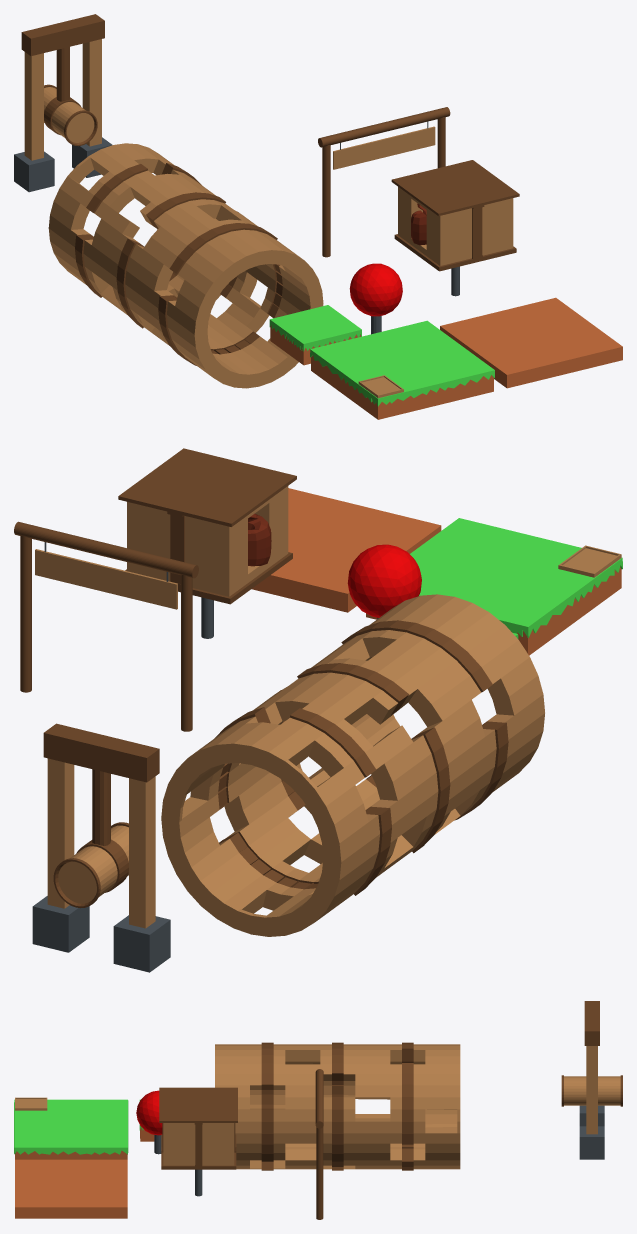
The model's file is Env.fbx.
3 renders of one model, top to bottom at view 1: azimuth 30°, elevation 25°; view 2: azimuth 150°, elevation 25°; view 3: azimuth 270°, elevation 25°, orthographic. The views are drawn at different scales.
Visible parts, largest first — view 1: Env_Spinner, ENV_GRASS, Env_Trap_02, ENV_DIRT, Env_Trap_01, Env_Finish_Line, ENV_GRASS_SMALL, Env_Trap_01_Hammer, Env_Bounce_Ball, Prop_Level_Selector, Prop_Boxing_Glove; view 2: Env_Spinner, Env_Trap_02, Env_Trap_01, ENV_GRASS, ENV_DIRT, Env_Finish_Line, Env_Trap_01_Hammer, Env_Bounce_Ball, Prop_Level_Selector, Prop_Boxing_Glove; view 3: Env_Spinner, ENV_DIRT, ENV_GRASS, Env_Trap_02, Env_Trap_01, Env_Trap_01_Hammer, Env_Finish_Line, Env_Bounce_Ball, Prop_Level_Selector.
Part boxes in pixels (<box>): Env_Spinner: <box>48,143,323,388</box>; ENV_GRASS: <box>310,320,494,419</box>; Env_Trap_02: <box>391,160,519,296</box>; ENV_DIRT: <box>440,297,622,388</box>; Env_Trap_01: <box>14,14,112,192</box>; Env_Finish_Line: <box>318,107,450,257</box>; ENV_GRASS_SMALL: <box>269,305,361,365</box>; Env_Trap_01_Hammer: <box>44,47,97,146</box>; Env_Bounce_Ball: <box>349,263,402,334</box>; Prop_Level_Selector: <box>358,375,403,398</box>; Prop_Boxing_Glove: <box>411,203,426,245</box>; Env_Spinner: <box>161,594,544,936</box>; Env_Trap_02: <box>118,448,296,638</box>; Env_Trap_01: <box>32,723,170,972</box>; ENV_GRASS: <box>366,518,622,655</box>; ENV_DIRT: <box>251,488,441,612</box>; Env_Finish_Line: <box>14,521,198,731</box>; Env_Trap_01_Hammer: <box>53,769,128,908</box>; Env_Bounce_Ball: <box>347,544,421,618</box>; Prop_Level_Selector: <box>558,545,621,577</box>; Prop_Boxing_Glove: <box>248,513,271,566</box>; Env_Spinner: <box>215,1042,460,1170</box>; ENV_DIRT: <box>15,1159,127,1218</box>; ENV_GRASS: <box>14,1099,128,1159</box>; Env_Trap_02: <box>159,1087,237,1196</box>; Env_Trap_01: <box>579,1001,604,1159</box>; Env_Trap_01_Hammer: <box>561,1075,622,1106</box>; Env_Finish_Line: <box>315,1069,323,1219</box>; Env_Bounce_Ball: <box>136,1090,162,1154</box>; Prop_Level_Selector: <box>15,1097,47,1110</box>.
Bounding box in the file's own units: 24.6 × 14.14 × 48.68.
